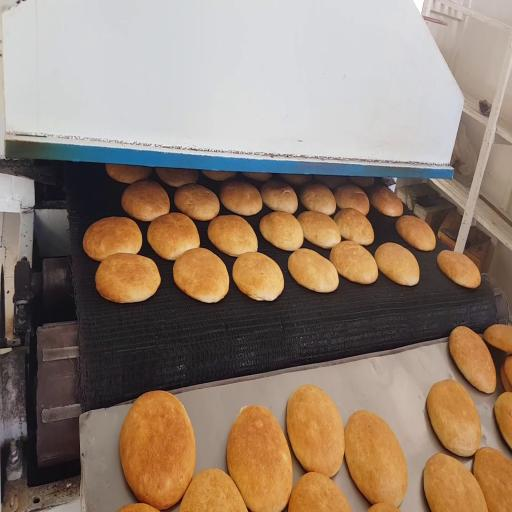bread: (120, 392, 195, 510), (227, 406, 292, 511), (346, 411, 407, 506), (287, 385, 344, 477), (427, 380, 481, 456), (424, 454, 487, 511), (96, 253, 160, 303), (449, 327, 496, 393), (173, 248, 229, 302), (180, 469, 247, 511), (83, 217, 142, 261), (233, 252, 284, 301), (147, 213, 199, 260), (288, 473, 351, 511), (474, 448, 511, 511), (288, 248, 338, 292), (330, 241, 378, 284), (208, 215, 257, 256), (122, 180, 170, 221), (375, 243, 419, 286), (260, 211, 303, 251), (437, 250, 481, 288), (174, 184, 219, 220), (298, 211, 341, 248), (334, 208, 374, 245), (220, 181, 262, 215), (396, 216, 436, 251), (261, 180, 298, 213), (300, 183, 336, 215), (335, 184, 369, 215), (370, 186, 403, 217), (106, 164, 152, 184), (495, 392, 511, 448), (156, 168, 198, 187), (484, 324, 511, 352), (316, 175, 346, 189), (202, 171, 236, 181), (500, 364, 512, 392), (282, 174, 311, 185), (118, 503, 157, 511), (243, 173, 272, 182), (349, 177, 374, 187), (369, 503, 399, 511), (504, 355, 511, 382)
